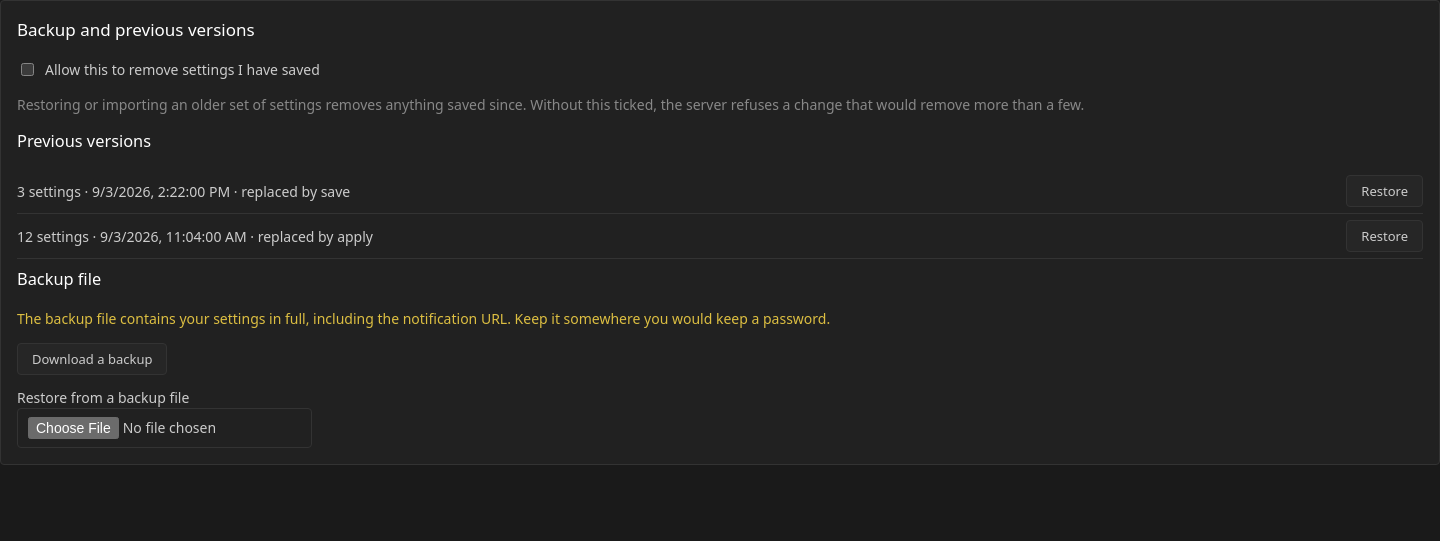
Test case: the previous-versions list › shows the server's refusal instead of restoring silently
This screenshot has width=1440, height=541.
Click the 1st button "Restore" at (1385, 191), box [1346,175,1423,207]
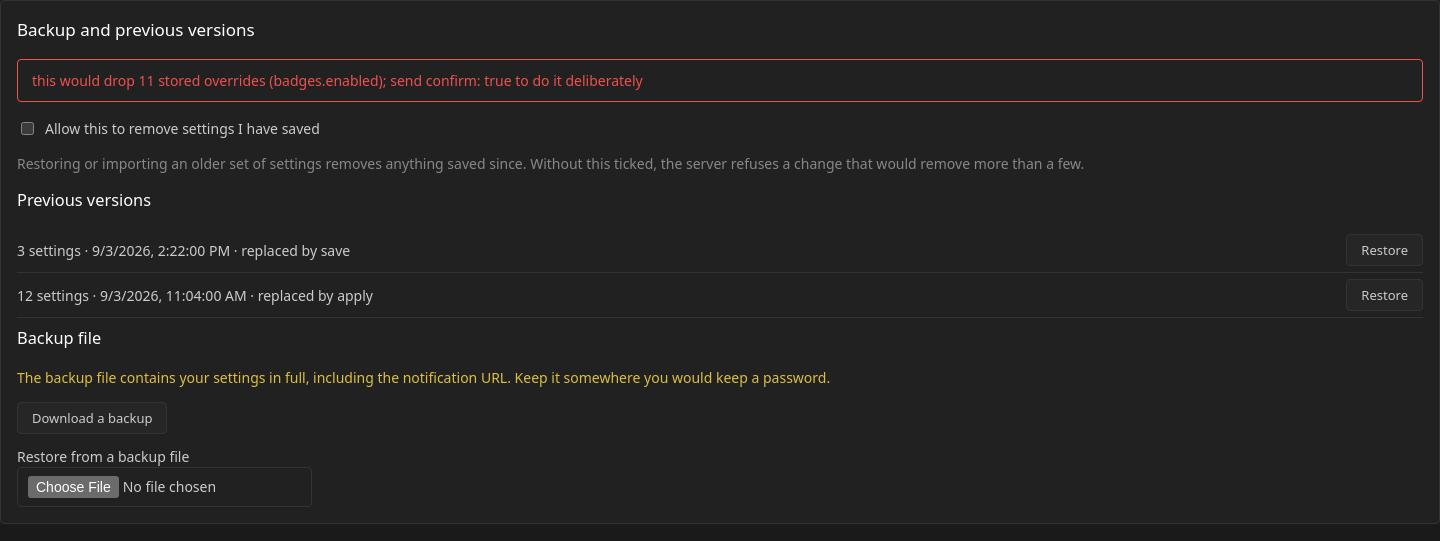
Check: the text "would drop 11 stored overrides" is shown, box [32,70,643,90]
